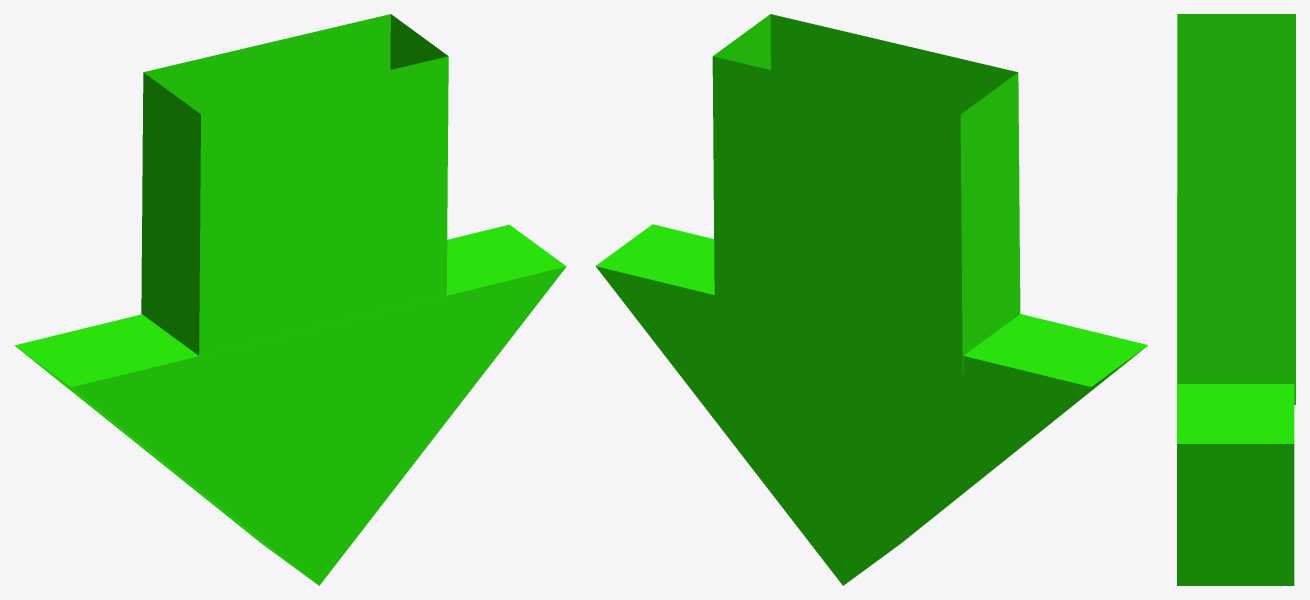
The model's file is arrow.obj.
The picture shows the model from 3 angles, left to right: view 1: azimuth 30°, elevation 25°; view 2: azimuth 150°, elevation 25°; view 3: azimuth 270°, elevation 25°; orthographic projection. The views are drawn at different scales.
Visible parts, largest first — view 1: Box, Box1; view 2: Box, Box1; view 3: Box, Box1.
Boxes of the visible parts, left/top/right/bottom form: Box: left=141, top=14, right=448, bottom=355; Box1: left=14, top=224, right=566, bottom=585; Box: left=712, top=14, right=1020, bottom=374; Box1: left=595, top=224, right=1147, bottom=585; Box: left=1177, top=14, right=1295, bottom=404; Box1: left=1177, top=196, right=1294, bottom=585.
Bounding box in the file's own units: 1 × 0.965 × 0.2026.
